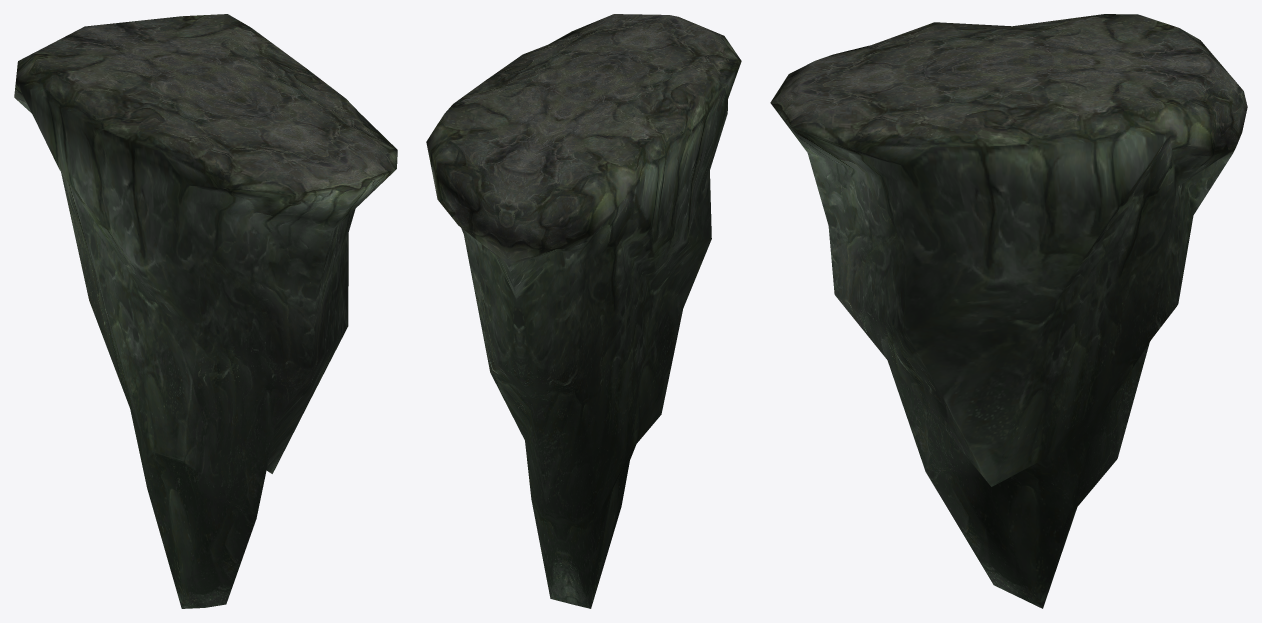
File: shadowmoon_overhangrock_large_02.obj
3 views of the same model, side by side, from view 1: azimuth 30°, elevation 25°; view 2: azimuth 150°, elevation 25°; view 3: azimuth 270°, elevation 25° (orthographic). The views are drawn at different scales.
Visible parts, largest first — view 1: Shadowmoon_OverhangRock_Large_02; view 2: Shadowmoon_OverhangRock_Large_02; view 3: Shadowmoon_OverhangRock_Large_02.
Part boxes in pixels (left/top/right/bottom): Shadowmoon_OverhangRock_Large_02: left=14, top=14, right=397, bottom=608; Shadowmoon_OverhangRock_Large_02: left=426, top=14, right=741, bottom=608; Shadowmoon_OverhangRock_Large_02: left=770, top=14, right=1247, bottom=608.
Bounding box in the file's own units: 25.39 × 56.66 × 45.39.
Materials: 1 (1 with a texture image).
